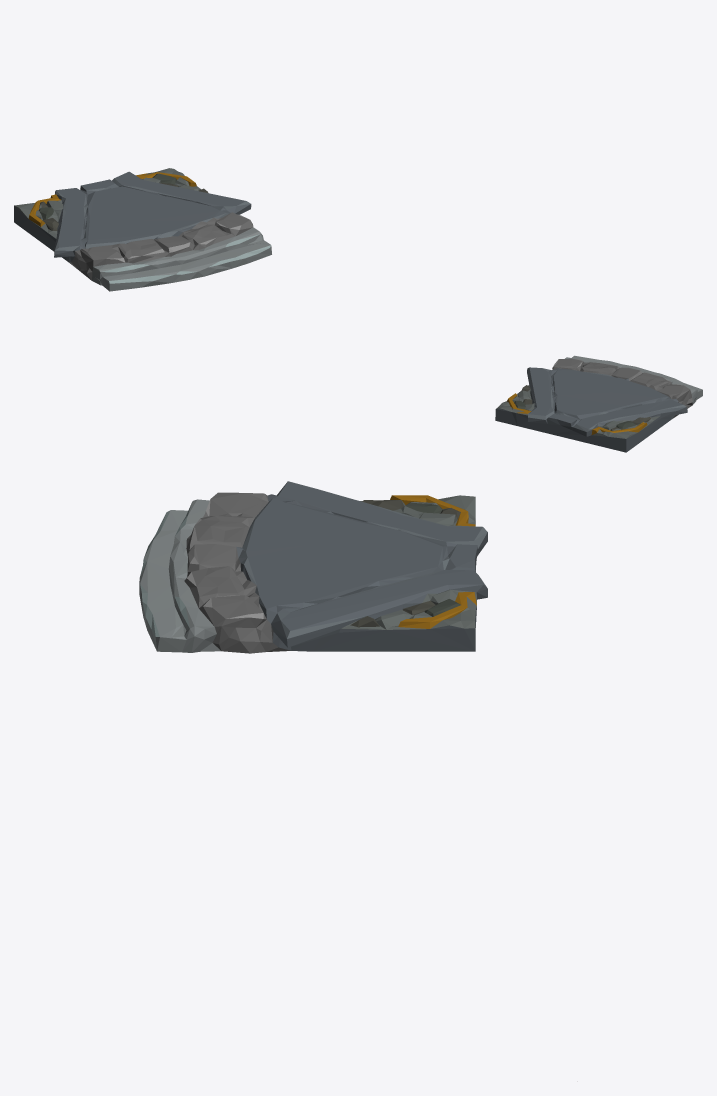
File: MCastle_CYardTiles_Edge.FBX
The picture shows the model from 3 angles, top to bottom: view 1: azimuth 30°, elevation 25°; view 2: azimuth 150°, elevation 25°; view 3: azimuth 270°, elevation 25°; orthographic projection. The views are drawn at different scales.
Visible parts, largest first — view 1: MCastle_CYardTiles_Edge_LOD0; view 2: MCastle_CYardTiles_Edge_LOD0; view 3: MCastle_CYardTiles_Edge_LOD0.
Boxes of the visible parts, x1,y1,x2,y2 form: MCastle_CYardTiles_Edge_LOD0: (14, 168, 271, 291); MCastle_CYardTiles_Edge_LOD0: (495, 355, 702, 452); MCastle_CYardTiles_Edge_LOD0: (139, 481, 487, 653).
Size of what is drawn, in the model's own units: 18.37 by 0.5064 by 5.8.
